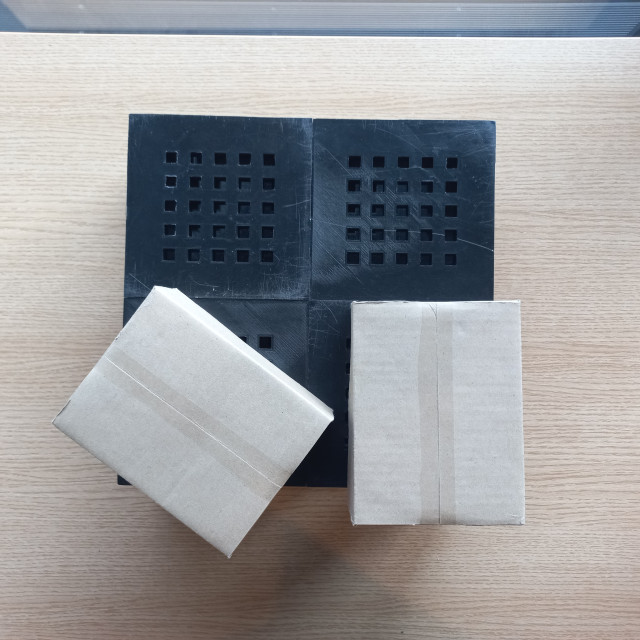box: (51, 281, 334, 563), (347, 299, 526, 528)
